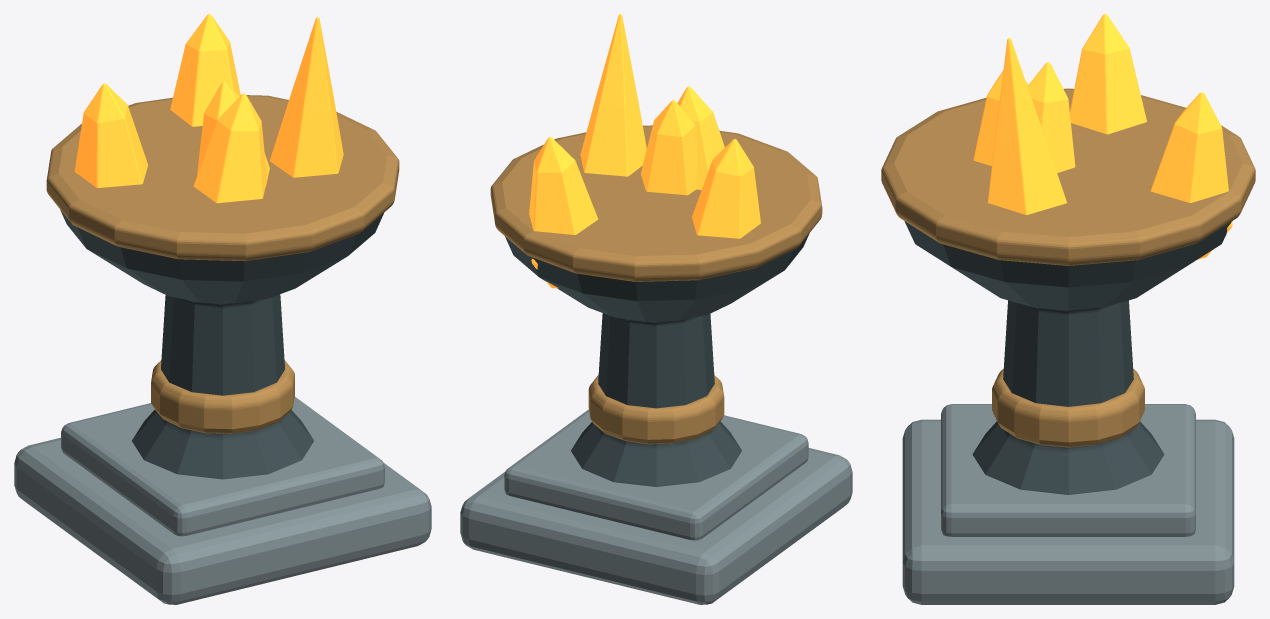
File: EmberBrazier.glb
3 renders of one model, left to right at view 1: azimuth 30°, elevation 25°; view 2: azimuth 150°, elevation 25°; view 3: azimuth 270°, elevation 25°, orthographic. The views are drawn at different scales.
Parts seen in each view (by area): view 1: EmberBrazier.001; view 2: EmberBrazier.001; view 3: EmberBrazier.001.
Boxes of the visible parts, x1,y1,x2,y2 form: EmberBrazier.001: (14,14,431,604); EmberBrazier.001: (460,14,852,604); EmberBrazier.001: (881,14,1255,604).
Size of the model in its own units: 0.88 by 1.39 by 0.88.
